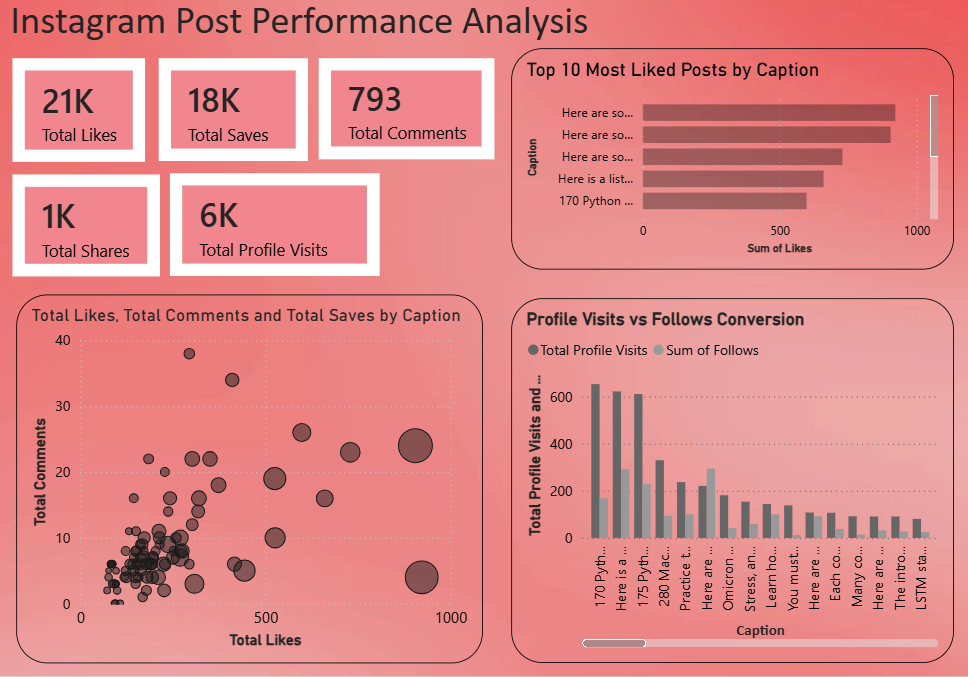

The page's visual inventory and layout, read from the dashboard file:
{"tool":"powerbi","page":{"name":"Page 1","canvas":[1280,720],"ordinal":0},"visuals":[{"type":"textbox","box":[178.6,24.1,594.8,70],"z":0},{"type":"cardVisual","title":"TOTAL LIKES","fields":{"Data":["Instagram_data.Total Likes"]},"box":[181,83.2,138.7,111],"z":1000},{"type":"cardVisual","fields":{"Data":["Instagram_data.Total Comments"]},"box":[476.5,83.2,179.8,107.4],"z":2000},{"type":"cardVisual","fields":{"Data":["Instagram_data.Total Saves"]},"box":[322.1,83.2,154.4,109.8],"z":3000},{"type":"cardVisual","fields":{"Data":["Instagram_data.Total Shares"]},"box":[181,195.4,152,108.6],"z":4000},{"type":"cardVisual","fields":{"Data":["Instagram_data.Total Profile Visits"]},"box":[333,194.2,212.3,109.8],"z":5000},{"type":"clusteredBarChart","title":"Top 10 Most Liked Posts by Caption","fields":{"Category":["Instagram_data.Caption"],"Y":["Sum(Instagram_data.Likes)"]},"box":[679.2,80.8,395.7,214.7],"z":6000},{"type":"scatterChart","fields":{"Size":["Instagram_data.Total Saves"],"X":["Instagram_data.Total Likes"],"Y":["Instagram_data.Total Comments"],"Category":["Instagram_data.Caption"]},"box":[189.4,316.1,450,355.9],"z":7000},{"type":"clusteredColumnChart","title":"Profile Visits vs Follows Conversion","fields":{"Category":["Instagram_data.Caption"],"Y":["Instagram_data.Total Profile Visits","Sum(Instagram_data.Follows)"]},"box":[656.3,316.1,427.1,352.3],"z":8000}]}

Visuals, with their boxes on the page's 1280x720 design canvas (x1, y1, x2, y2). These are canvas units, not pixel positions in the 968x677 screenshot, which may show the page scaled, cropped or inside an application window:
textbox: bbox=[179, 24, 773, 94]
"TOTAL LIKES" cardVisual: bbox=[181, 83, 320, 194]
cardVisual - Instagram_data.Total Comments: bbox=[476, 83, 656, 191]
cardVisual - Instagram_data.Total Saves: bbox=[322, 83, 476, 193]
cardVisual - Instagram_data.Total Shares: bbox=[181, 195, 333, 304]
cardVisual - Instagram_data.Total Profile Visits: bbox=[333, 194, 545, 304]
"Top 10 Most Liked Posts by Caption" clusteredBarChart: bbox=[679, 81, 1075, 296]
scatterChart - Instagram_data.Total Saves x Instagram_data.Total Likes: bbox=[189, 316, 639, 672]
"Profile Visits vs Follows Conversion" clusteredColumnChart: bbox=[656, 316, 1083, 668]
